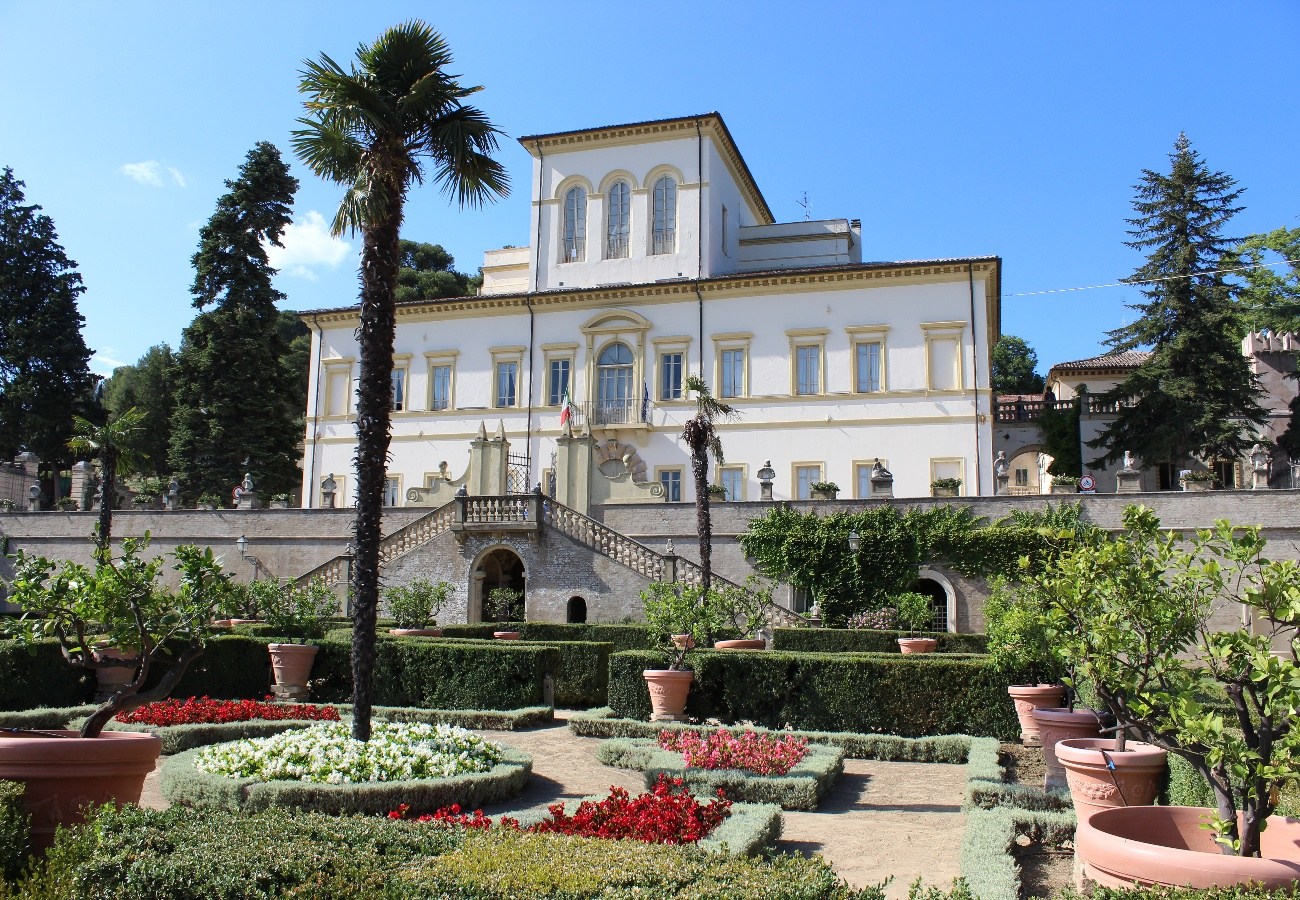Villa Caprile: (285, 108, 1010, 562)
